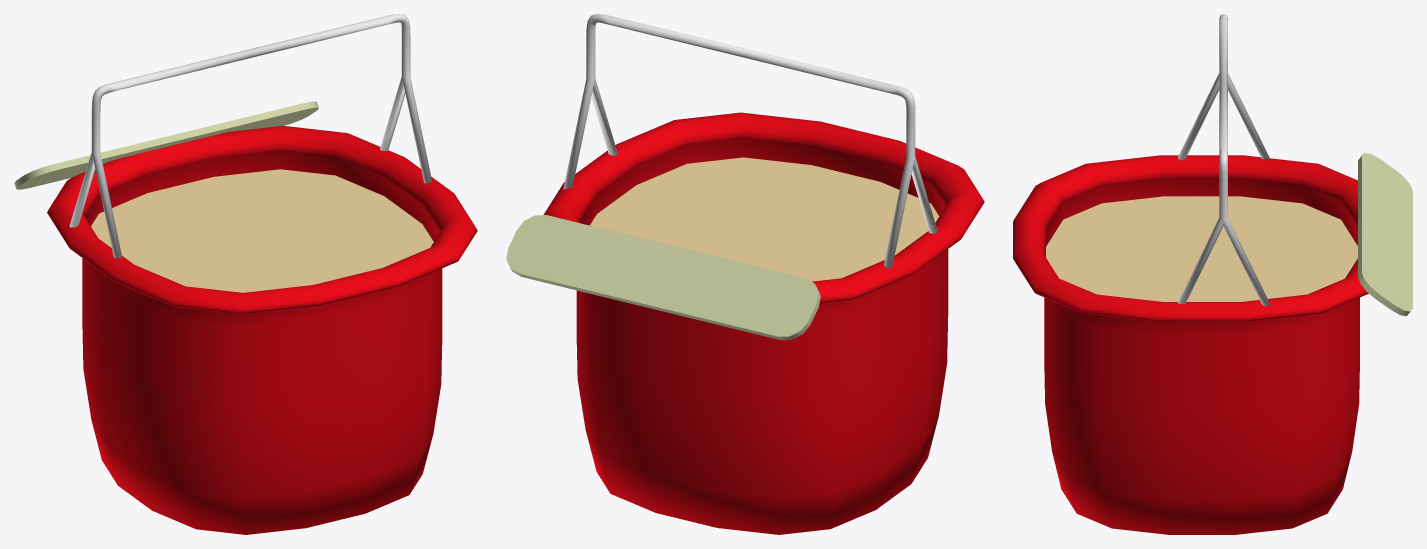
File: BaseTowerV2_Turret.fbx
3 renders of one model, left to right at view 1: azimuth 30°, elevation 25°; view 2: azimuth 150°, elevation 25°; view 3: azimuth 270°, elevation 25°, orthographic. The views are drawn at different scales.
Visible parts, largest first — view 1: Bucket.002, Sand.002, Support.001, Plane.042; view 2: Bucket.002, Sand.002, Plane.042, Support.001; view 3: Bucket.002, Sand.002, Plane.042, Support.001.
Part boxes in pixels (x1,y1,x2,y2): Bucket.002: (47, 125, 477, 534); Sand.002: (91, 169, 433, 292); Support.001: (69, 14, 432, 258); Plane.042: (14, 101, 318, 189); Bucket.002: (543, 112, 984, 534); Sand.002: (590, 157, 939, 281); Plane.042: (506, 215, 820, 339); Support.001: (563, 14, 937, 268); Bucket.002: (1013, 155, 1368, 534); Sand.002: (1046, 196, 1357, 301); Plane.042: (1358, 152, 1412, 315); Support.001: (1177, 14, 1269, 306).
Bounding box in the file's own units: 141 × 162 × 149.
